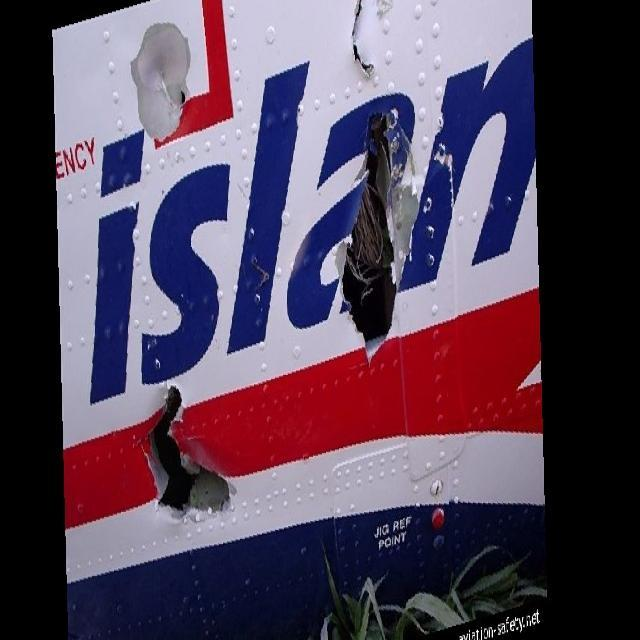crack: (338, 106, 414, 376), (140, 388, 238, 526), (347, 2, 380, 83), (156, 69, 195, 118)
